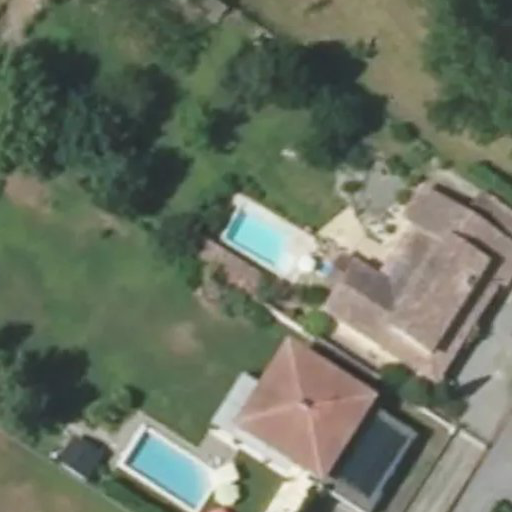pool: (225, 240, 291, 243)
